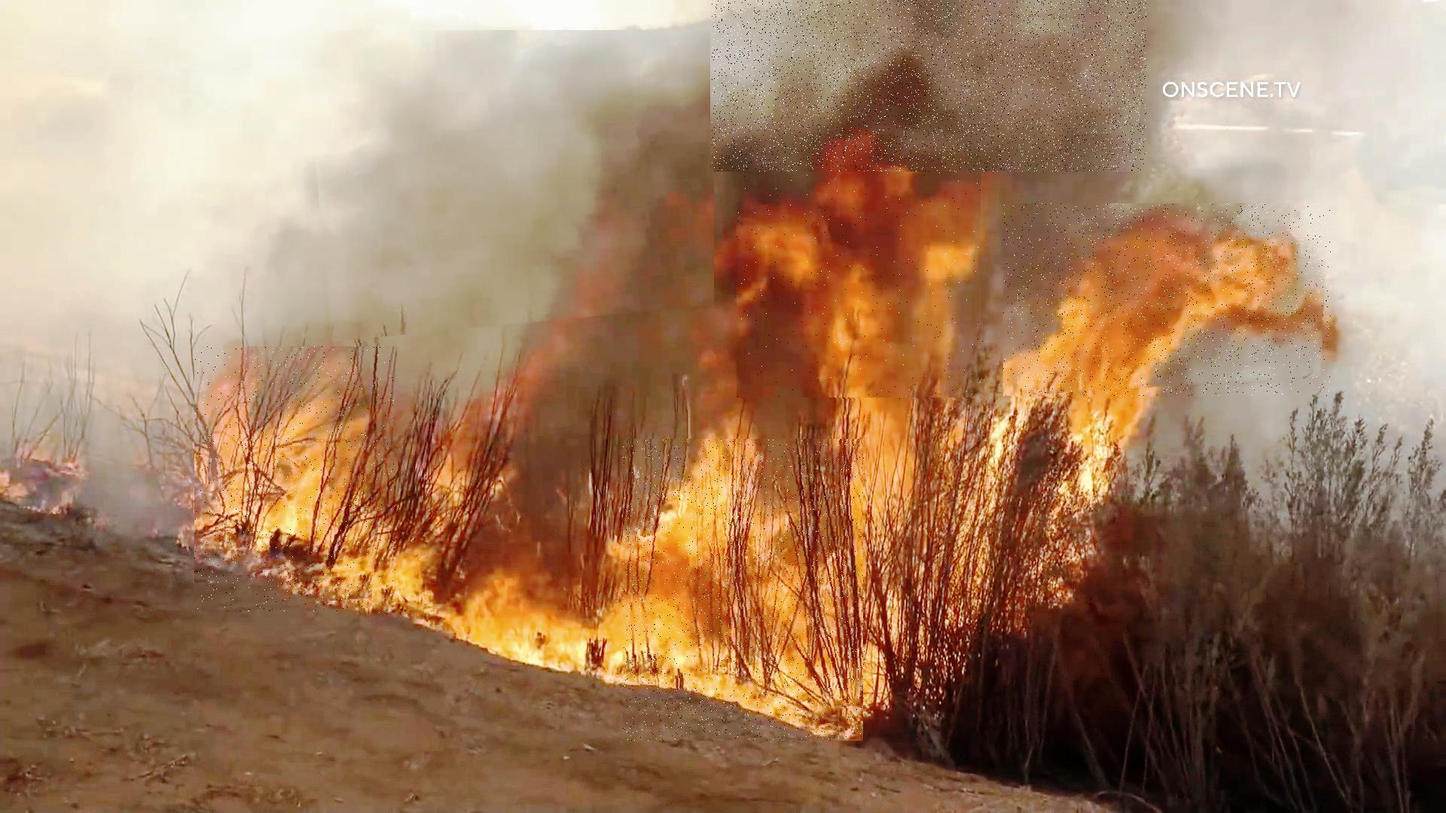fire: (624, 439, 865, 741), (1004, 203, 1331, 397), (737, 153, 983, 400), (194, 347, 395, 613)
smoke: (306, 31, 716, 344), (712, 0, 1146, 172)
